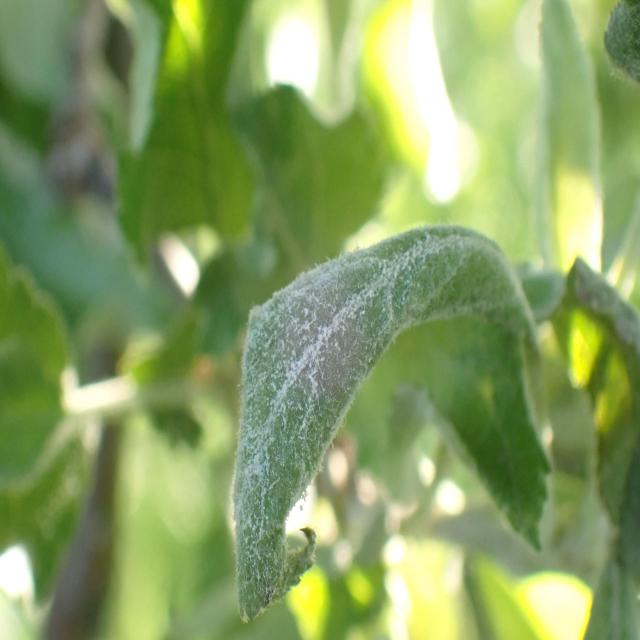Powdery_mildew: (206, 182, 526, 616), (536, 232, 640, 468)
